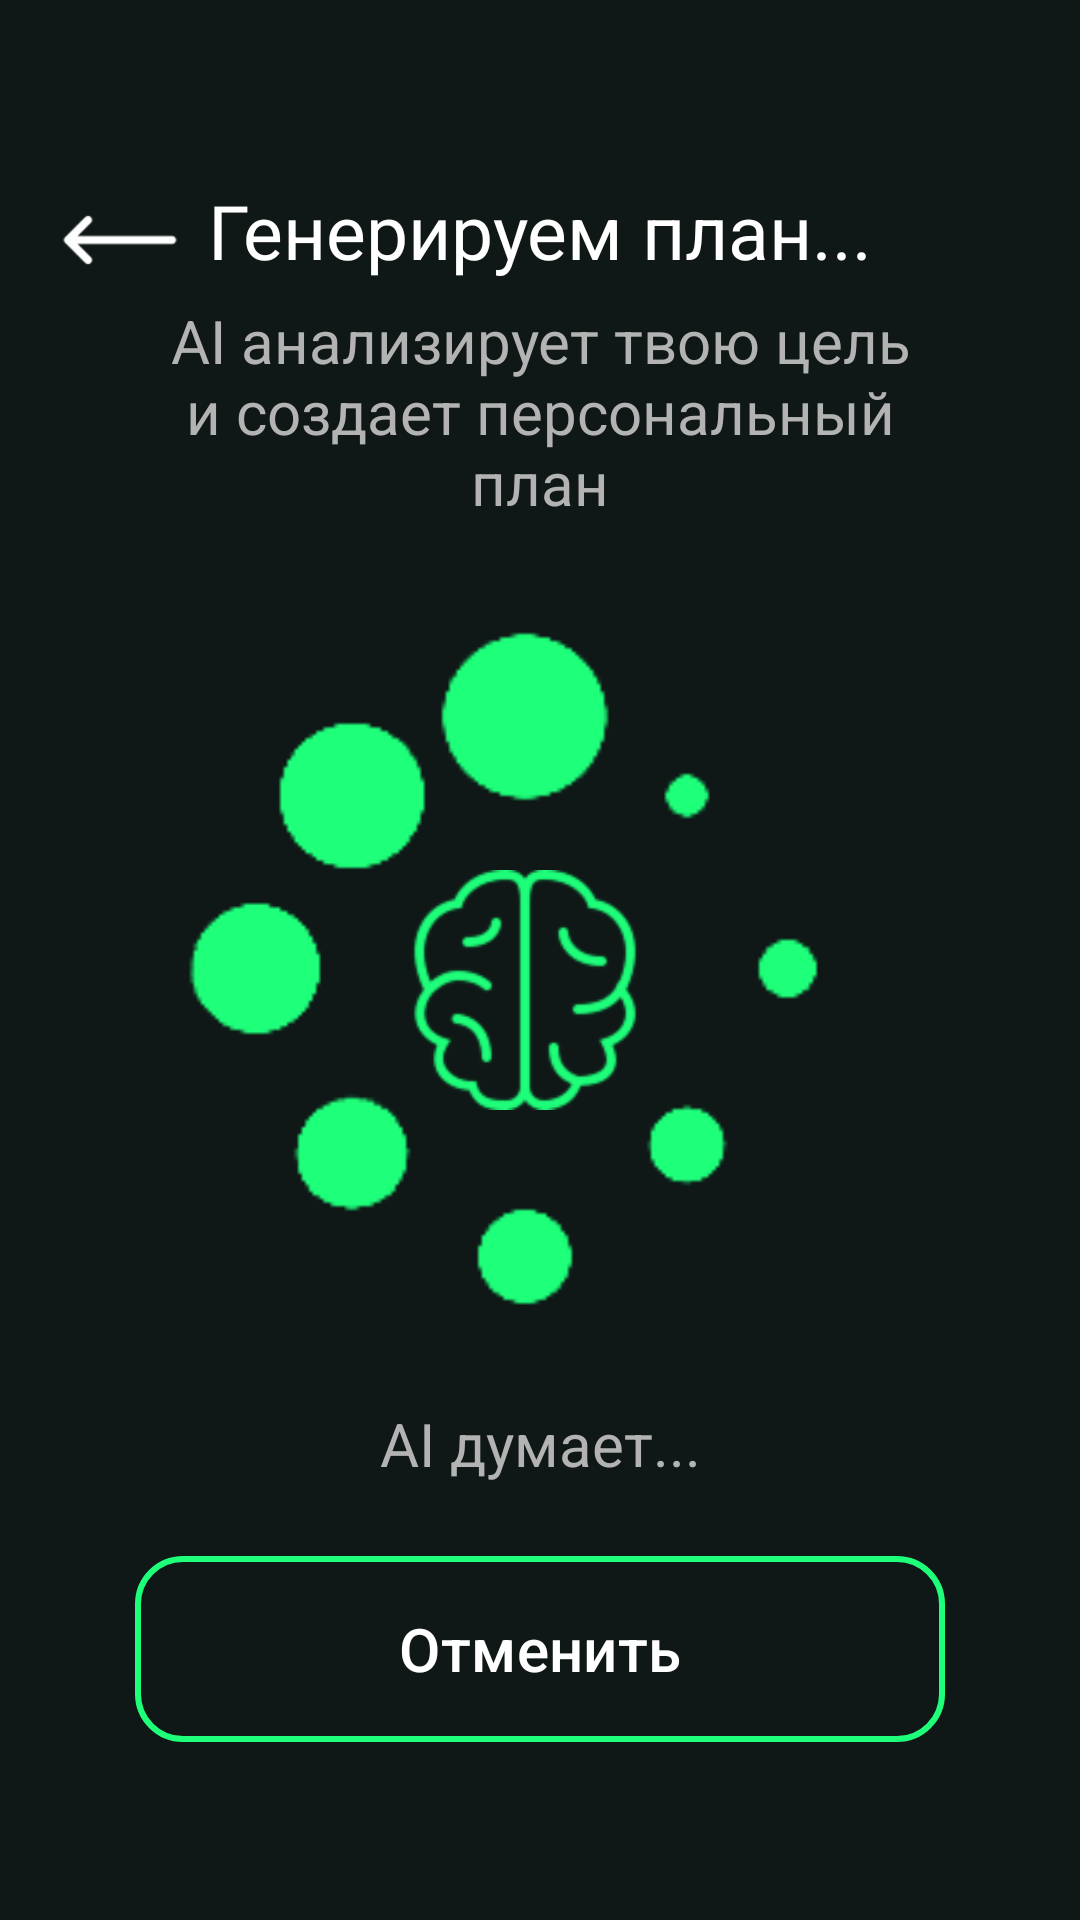

Named icons in this screenshot (1080x1920) and their centers, (x=x, y=y):
left arrow: (x=120, y=240)
